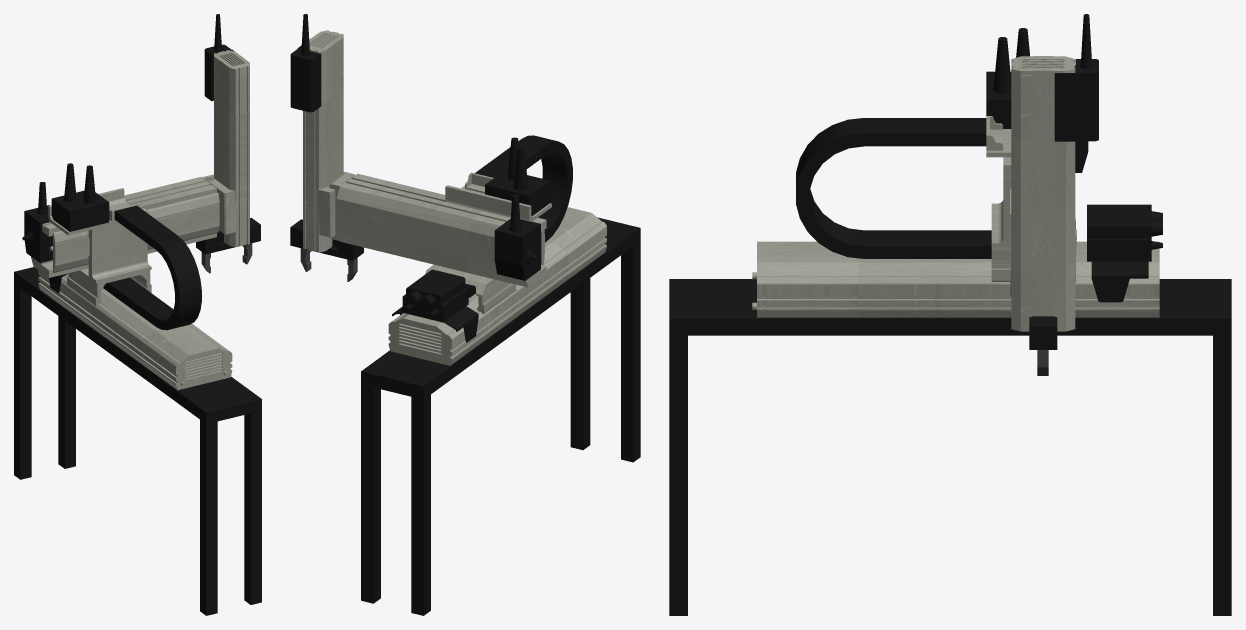
Rendered from Pick_and_Place_Robot.glb.
3 views of the same model, side by side, from view 1: azimuth 30°, elevation 25°; view 2: azimuth 150°, elevation 25°; view 3: azimuth 270°, elevation 25° (orthographic). The views are drawn at different scales.
Parts seen in each view (by area): view 1: color-8.002, PP_Machine_Floating_X_Rebuilt, color-9.002, color-5[5], color.003, PP_Floating_X_Bodies, color-5.002, color[1].001, PP_Gripper; view 2: color-8.002, color-5[5], color-9.002, PP_Machine_Floating_X_Rebuilt, color.003, color-9[1], color-5.002, color[1].001, PP_Floating_X_Bodies, PP_Gripper; view 3: color-8.002, color-9.002, color.003, PP_Machine_Floating_X_Rebuilt, color-9[1], color[1].001, PP_Floating_X_Bodies, PP_Gripper.
Boxes of the visible parts, x1=… form: color-8.002: x1=14, y1=267, x2=261, y2=615; PP_Machine_Floating_X_Rebuilt: x1=48, y1=163, x2=201, y2=330; color-9.002: x1=38, y1=270, x2=232, y2=390; color-5[5]: x1=31, y1=174, x2=236, y2=277; color.003: x1=214, y1=50, x2=249, y2=247; PP_Floating_X_Bodies: x1=51, y1=165, x2=109, y2=231; color-5.002: x1=24, y1=205, x2=52, y2=263; color[1].001: x1=204, y1=14, x2=234, y2=101; PP_Gripper: x1=196, y1=217, x2=260, y2=254; color-8.002: x1=361, y1=217, x2=640, y2=615; color-5[5]: x1=318, y1=171, x2=546, y2=287; color-9.002: x1=388, y1=207, x2=606, y2=365; PP_Machine_Floating_X_Rebuilt: x1=425, y1=135, x2=572, y2=314; color.003: x1=303, y1=30, x2=343, y2=252; color-9[1]: x1=392, y1=269, x2=478, y2=342; color-5.002: x1=494, y1=219, x2=540, y2=280; color[1].001: x1=290, y1=14, x2=321, y2=112; PP_Floating_X_Bodies: x1=485, y1=137, x2=549, y2=215; PP_Gripper: x1=290, y1=219, x2=363, y2=260; color-8.002: x1=669, y1=279, x2=1231, y2=615; color-9.002: x1=752, y1=241, x2=1159, y2=317; color.003: x1=1011, y1=56, x2=1075, y2=331; PP_Machine_Floating_X_Rebuilt: x1=796, y1=28, x2=1075, y2=281; color-9[1]: x1=1087, y1=204, x2=1162, y2=302; color[1].001: x1=1054, y1=14, x2=1098, y2=141; PP_Floating_X_Bodies: x1=986, y1=37, x2=1011, y2=128; PP_Gripper: x1=1029, y1=316, x2=1057, y2=349.
Size of the model in its own units: 0.4028 by 0.79 by 0.6.
Materials: 4 (1 with a texture image).
